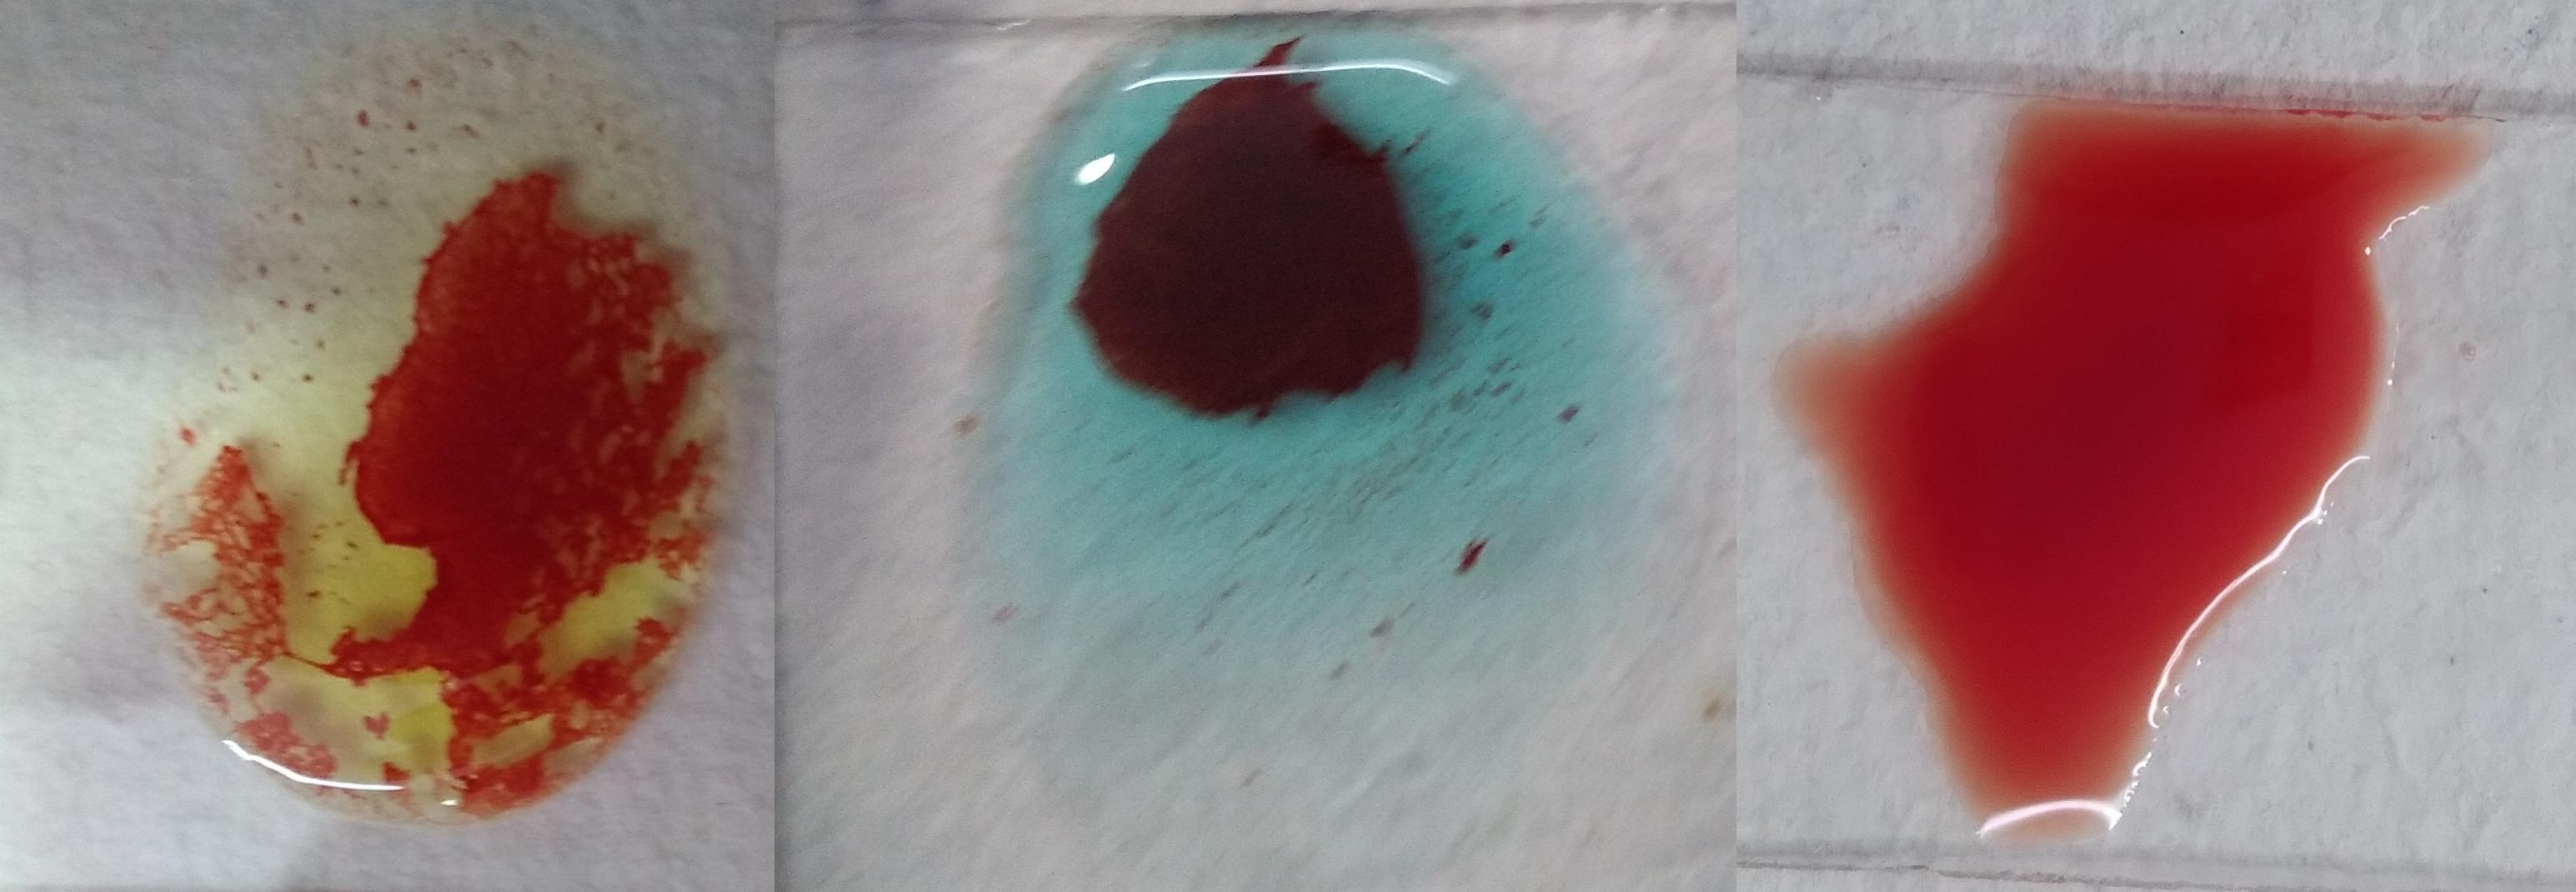A: (968, 20, 1656, 844)
B: (133, 16, 739, 836)
